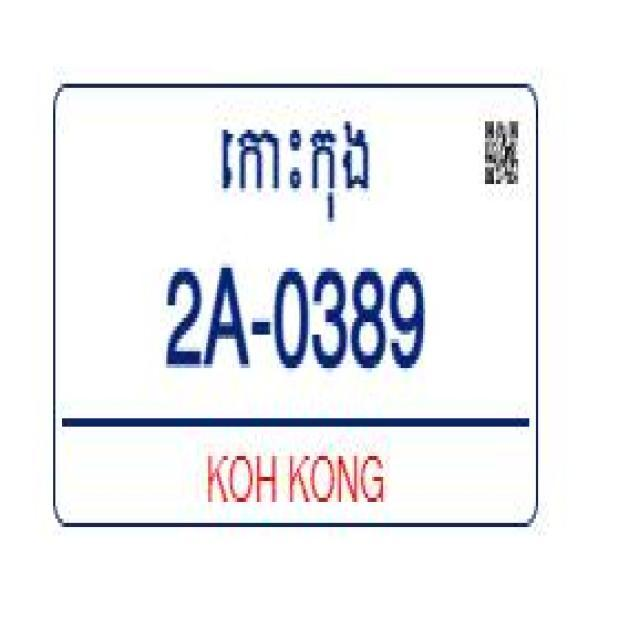Koh_Kong: (215, 105, 373, 233)
